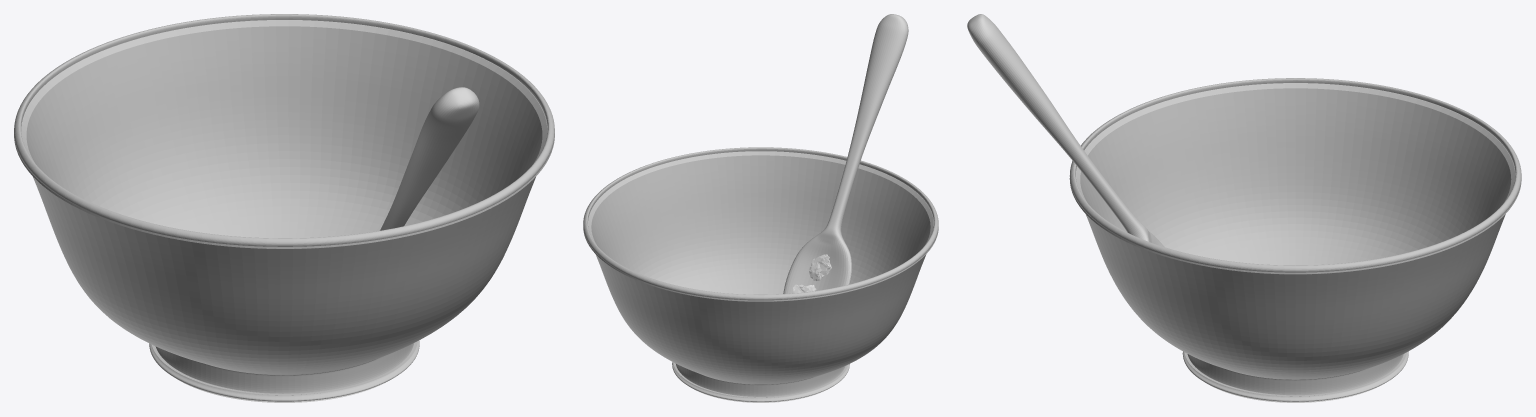
File: tazon.def.fbx
3 views of the same model, side by side, from view 1: azimuth 30°, elevation 25°; view 2: azimuth 150°, elevation 25°; view 3: azimuth 270°, elevation 25° (orthographic). The views are drawn at different scales.
Visible parts, largest first — view 1: Cylinder, Cube.002; view 2: Cylinder, Cube.002, Icosphere.004; view 3: Cylinder, Cube.002.
Boxes of the visible parts, x1,y1,x2,y2 form: Cylinder: [14, 14, 554, 402]; Cube.002: [380, 87, 479, 230]; Cylinder: [583, 147, 938, 402]; Cube.002: [783, 14, 908, 293]; Icosphere.004: [792, 254, 831, 293]; Cylinder: [1069, 78, 1521, 402]; Cube.002: [967, 14, 1164, 246].
Size of the model in its own units: 409 by 334 by 502.
